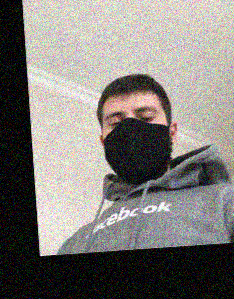with_mask: (104, 103, 171, 184)
